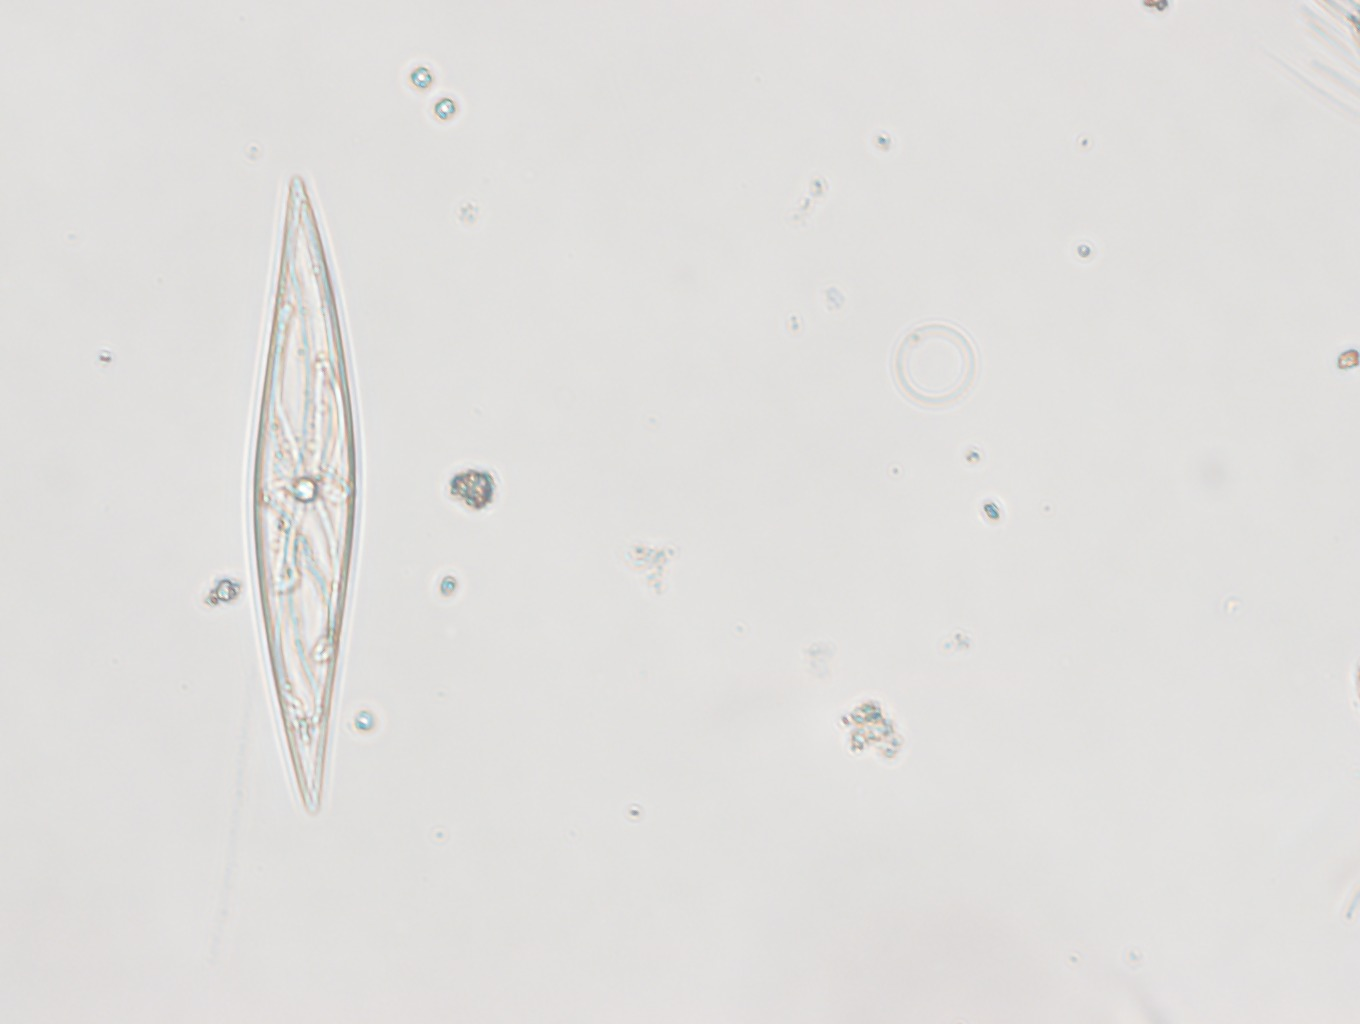pleurosigma pelagicum: (245, 175, 364, 815)
